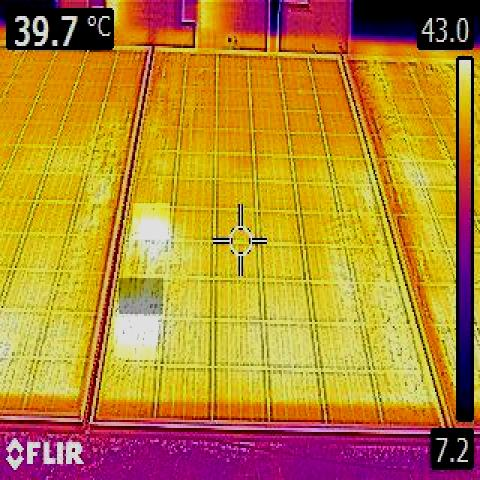fault: (114, 317, 158, 360), (119, 278, 163, 314), (133, 203, 170, 239)
